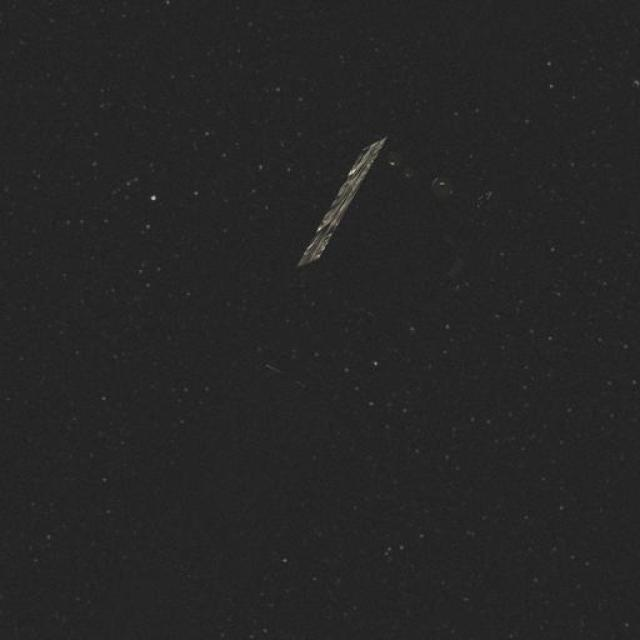smart_1: (258, 122, 448, 344)
